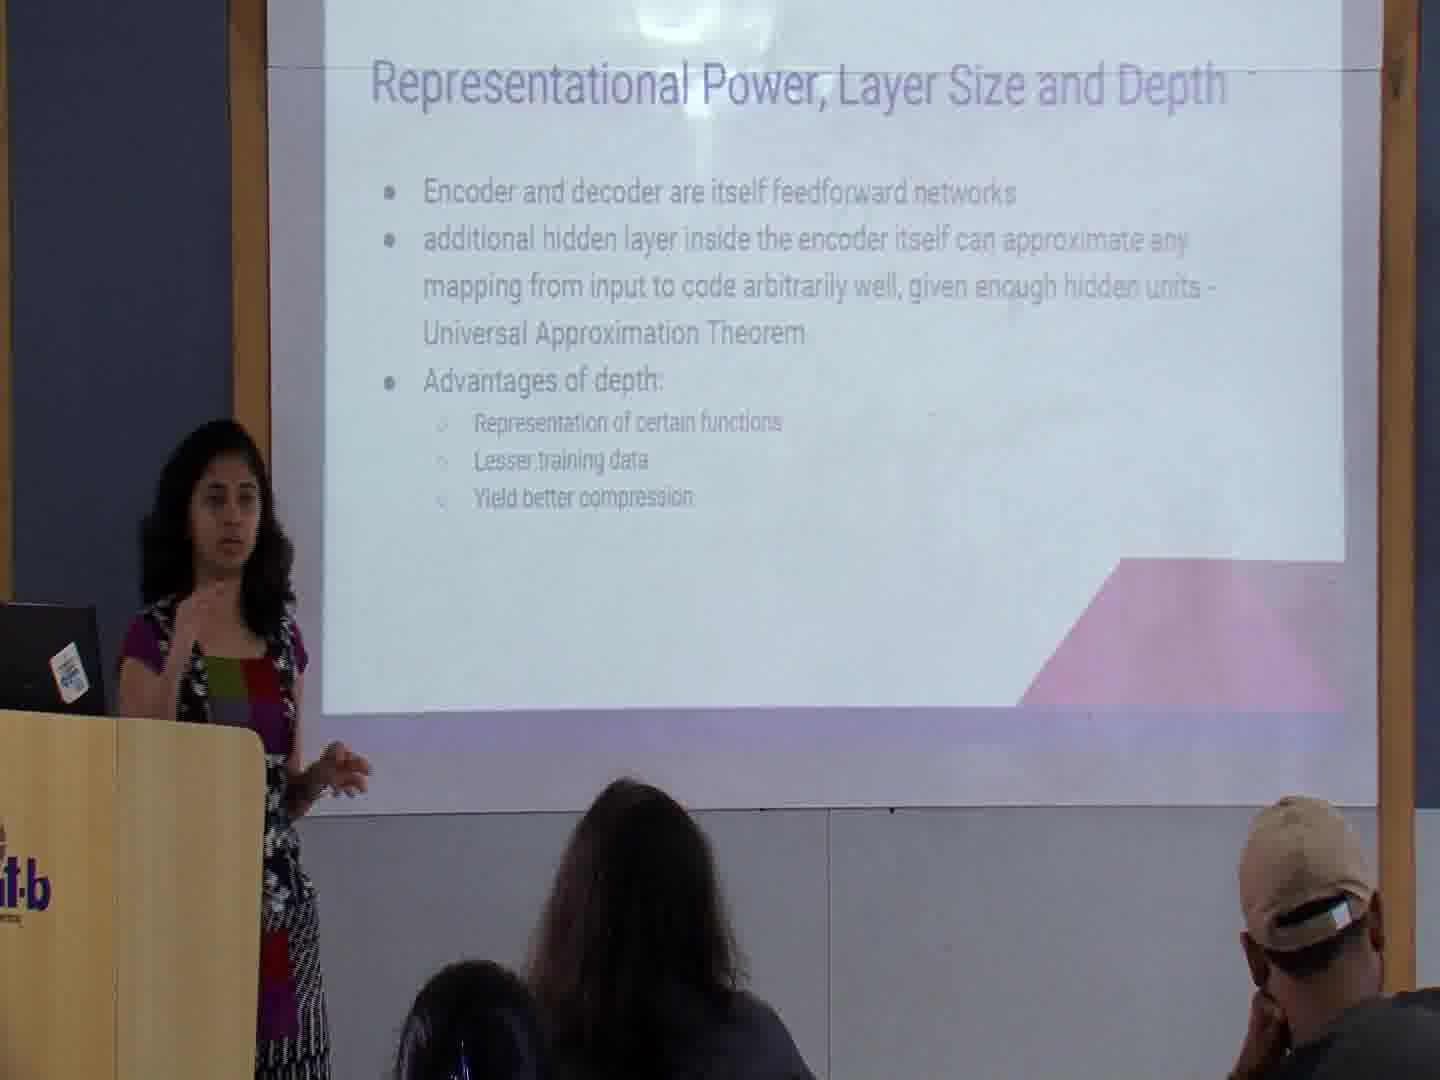slide: (323, 1, 1349, 749)
